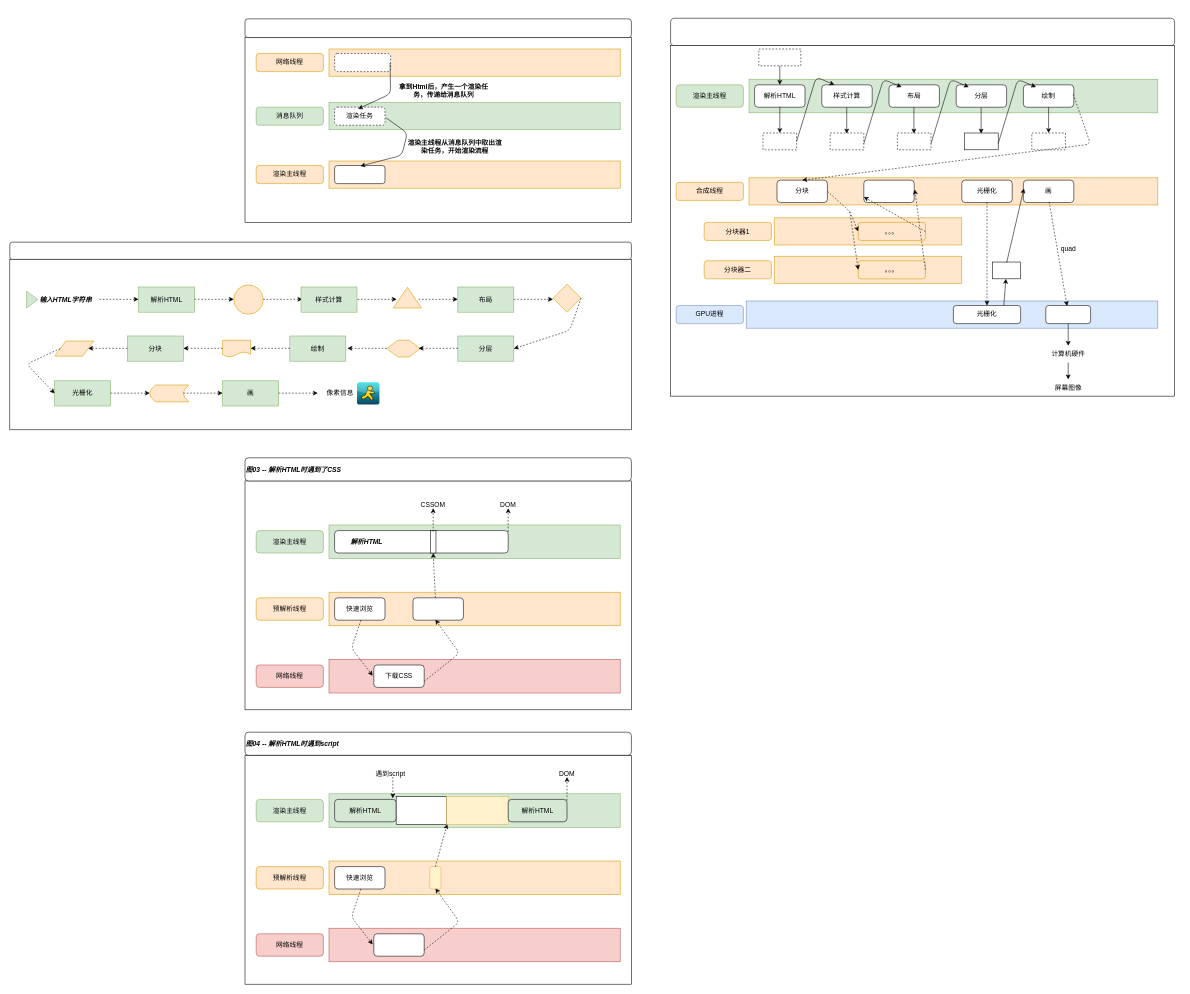
The diagram is 1190 pixels wide and 994 high, and some of its shapes have lost their labels. The box of each missing label's shape, as (x1, y1, x2, y2) in pixels:
DOM树 CSSOM: (762, 132, 797, 150)
HTML字符串: (758, 48, 801, 66)
下载JS: (373, 933, 424, 956)
位图: (992, 261, 1021, 279)
分成了很多块（分块）: (863, 180, 914, 203)
图01 -- 渲染时间点: (244, 18, 631, 38)
图02 -- 渲染流水线: (9, 242, 631, 259)
图05 -- 整个绘制过程: (670, 18, 1175, 46)
对布局进行分层: (964, 132, 998, 150)
布局树: (897, 132, 931, 150)
带有样式的DOM树: (830, 132, 864, 150)
执行JS: (446, 796, 508, 825)
暂停: (396, 796, 447, 825)
每层的绘制指令集: (1031, 132, 1065, 150)
渲染: (334, 165, 385, 184)
解析: (412, 597, 463, 620)
通信，获取html: (334, 53, 391, 72)
